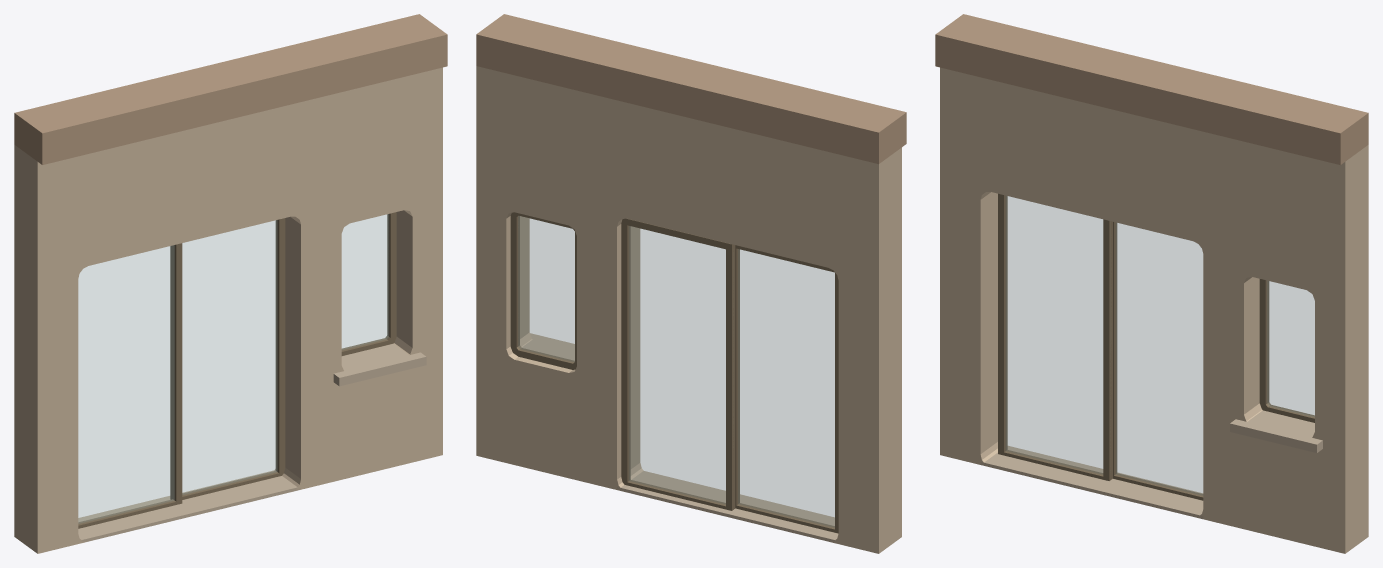
File: city_res_slider.glb
3 views of the same model, side by side, from view 1: azimuth 30°, elevation 25°; view 2: azimuth 150°, elevation 25°; view 3: azimuth 330°, elevation 25° (orthographic).
Parts seen in each view (by area): view 1: CityResSlider_Wall, CityResSlider_Band, CityResSlider_Leaf0, CityResSlider_Leaf1, CityResSlider_SideGlass, CityResSlider_Threshold, CityResSlider_LeafStile12.54, CityResSlider_LeafStile01.49, CityResSlider_SideSill, CityResSlider_SideFrame, CityResSlider_LeafStile11.50, CityResSlider_LeafRail00.0 (+1 smaller); view 2: CityResSlider_Wall, CityResSlider_Band, CityResSlider_Leaf0, CityResSlider_Leaf1, CityResSlider_SideGlass, CityResSlider_Threshold, CityResSlider_LeafStile11.50, CityResSlider_LeafStile12.54, CityResSlider_SideFrame, CityResSlider_LeafStile01.49, CityResSlider_LeafStile00.45, CityResSlider_LeafRail12.5 (+3 smaller); view 3: CityResSlider_Wall, CityResSlider_Band, CityResSlider_Leaf0, CityResSlider_Leaf1, CityResSlider_SideGlass, CityResSlider_Threshold, CityResSlider_LeafStile01.49, CityResSlider_LeafStile00.45, CityResSlider_SideSill, CityResSlider_SideFrame, CityResSlider_LeafStile11.50, CityResSlider_LeafRail00.0 (+1 smaller).
Part boxes in pixels (x1=…): CityResSlider_Wall: x1=14, y1=67, x2=442, y2=553; CityResSlider_Band: x1=14, y1=14, x2=447, y2=164; CityResSlider_Leaf0: x1=78, y1=245, x2=174, y2=523; CityResSlider_Leaf1: x1=182, y1=220, x2=277, y2=494; CityResSlider_SideGlass: x1=342, y1=214, x2=388, y2=349; CityResSlider_Threshold: x1=78, y1=470, x2=300, y2=541; CityResSlider_LeafStile12.54: x1=275, y1=218, x2=285, y2=475; CityResSlider_LeafStile01.49: x1=173, y1=243, x2=182, y2=502; CityResSlider_SideSill: x1=333, y1=343, x2=426, y2=386; CityResSlider_SideFrame: x1=341, y1=212, x2=396, y2=355; CityResSlider_LeafStile11.50: x1=170, y1=245, x2=172, y2=499; CityResSlider_LeafRail00.0: x1=78, y1=499, x2=182, y2=528; CityResSlider_Wall: x1=476, y1=66, x2=901, y2=553; CityResSlider_Band: x1=476, y1=14, x2=906, y2=164; CityResSlider_Leaf0: x1=738, y1=249, x2=834, y2=527; CityResSlider_Leaf1: x1=629, y1=226, x2=725, y2=504; CityResSlider_SideGlass: x1=518, y1=216, x2=574, y2=361; CityResSlider_Threshold: x1=617, y1=471, x2=838, y2=541; CityResSlider_LeafStile11.50: x1=726, y1=247, x2=735, y2=510; CityResSlider_LeafStile12.54: x1=621, y1=222, x2=630, y2=481; CityResSlider_SideFrame: x1=510, y1=212, x2=576, y2=369; CityResSlider_LeafStile01.49: x1=735, y1=247, x2=739, y2=508; CityResSlider_LeafStile00.45: x1=835, y1=273, x2=838, y2=532; CityResSlider_LeafRail12.5: x1=622, y1=218, x2=735, y2=250; CityResSlider_Wall: x1=940, y1=67, x2=1368, y2=553; CityResSlider_Band: x1=935, y1=14, x2=1368, y2=164; CityResSlider_Leaf0: x1=1006, y1=196, x2=1102, y2=474; CityResSlider_Leaf1: x1=1116, y1=223, x2=1202, y2=495; CityResSlider_SideGlass: x1=1267, y1=281, x2=1314, y2=416; CityResSlider_Threshold: x1=980, y1=446, x2=1203, y2=519; CityResSlider_LeafStile01.49: x1=1103, y1=219, x2=1112, y2=480; CityResSlider_LeafStile00.45: x1=998, y1=193, x2=1007, y2=453; CityResSlider_SideSill: x1=1230, y1=410, x2=1322, y2=452; CityResSlider_SideFrame: x1=1259, y1=279, x2=1314, y2=422; CityResSlider_LeafStile11.50: x1=1113, y1=222, x2=1117, y2=477; CityResSlider_LeafRail00.0: x1=998, y1=450, x2=1112, y2=480.
Bounding box in the file's own units: 4 × 4 × 0.5.
